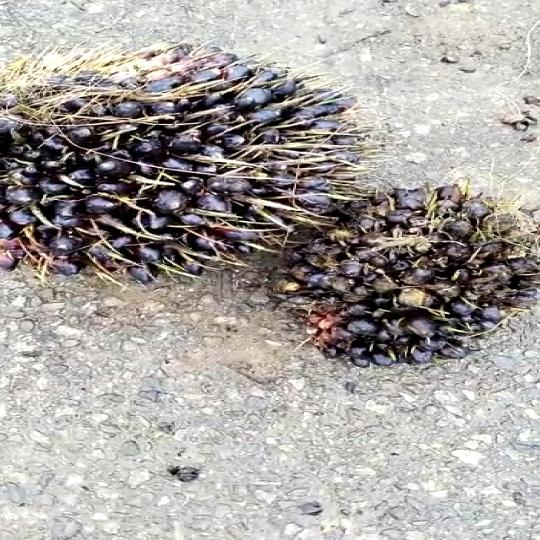mentah: (0, 50, 336, 290), (258, 189, 538, 376)
